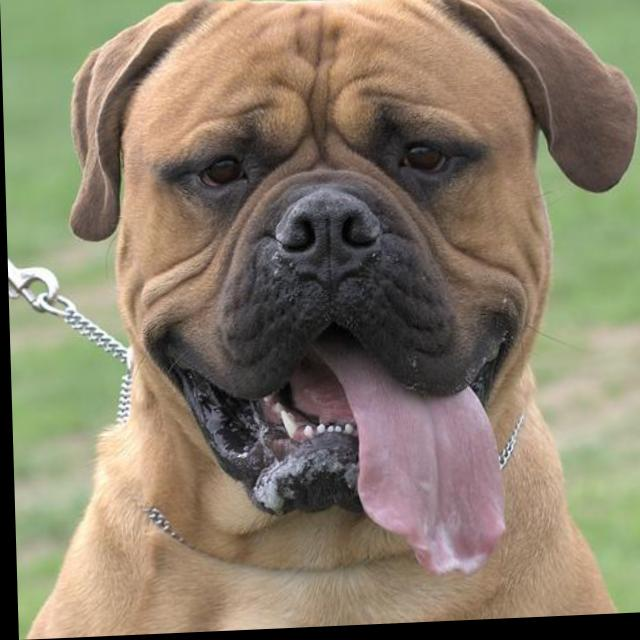bullmastiff: (1, 1, 640, 640)
